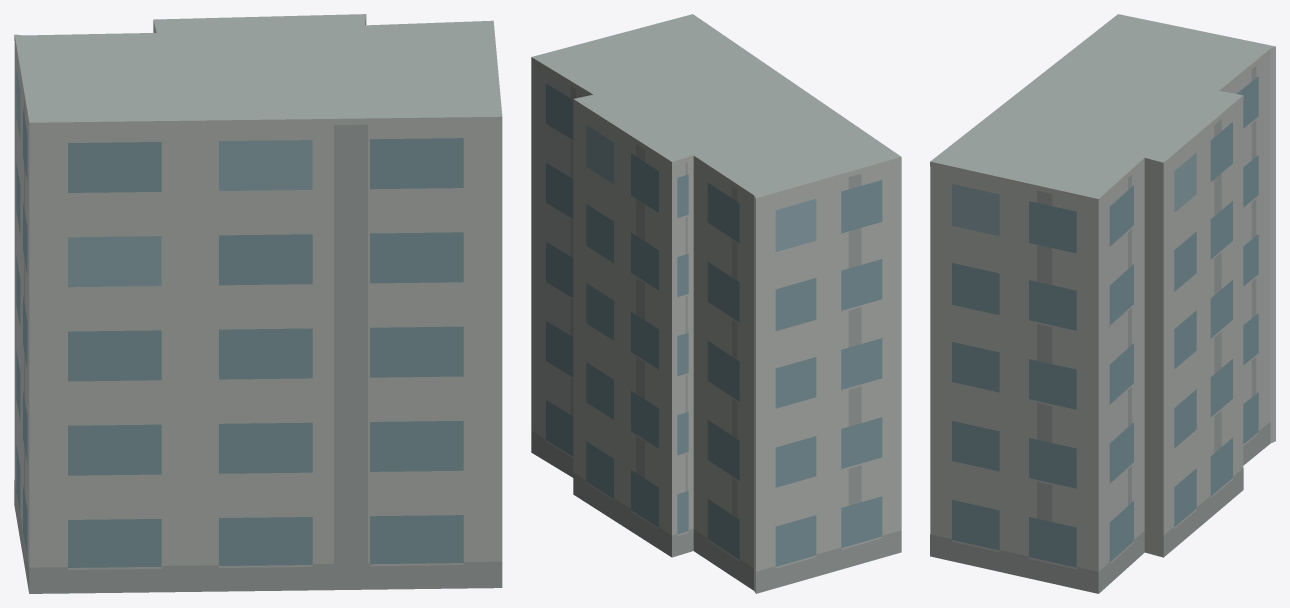
The model's file is survey-upis-32888534.glb.
3 views of the same model, side by side, from view 1: azimuth 30°, elevation 25°; view 2: azimuth 150°, elevation 25°; view 3: azimuth 270°, elevation 25° (orthographic). The views are drawn at different scales.
Parts seen in each view (by area): view 1: survey-upis-32888534.tmp; view 2: survey-upis-32888534.tmp; view 3: survey-upis-32888534.tmp.
Boxes of the visible parts, left/top/right/bottom form: survey-upis-32888534.tmp: left=14, top=14, right=502, bottom=593; survey-upis-32888534.tmp: left=531, top=14, right=901, bottom=593; survey-upis-32888534.tmp: left=930, top=14, right=1275, bottom=593.
Size of the model in its own units: 18.51 by 18.4 by 14.61.
